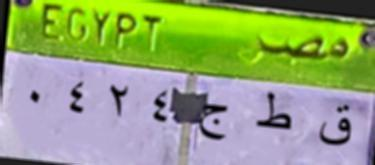0: (23, 80, 46, 110)
2: (105, 81, 130, 124)
4: (65, 76, 90, 120), (150, 86, 174, 126)
Taa: (252, 87, 294, 138)
jeem: (194, 94, 229, 148)
qaaf: (315, 96, 356, 156)
